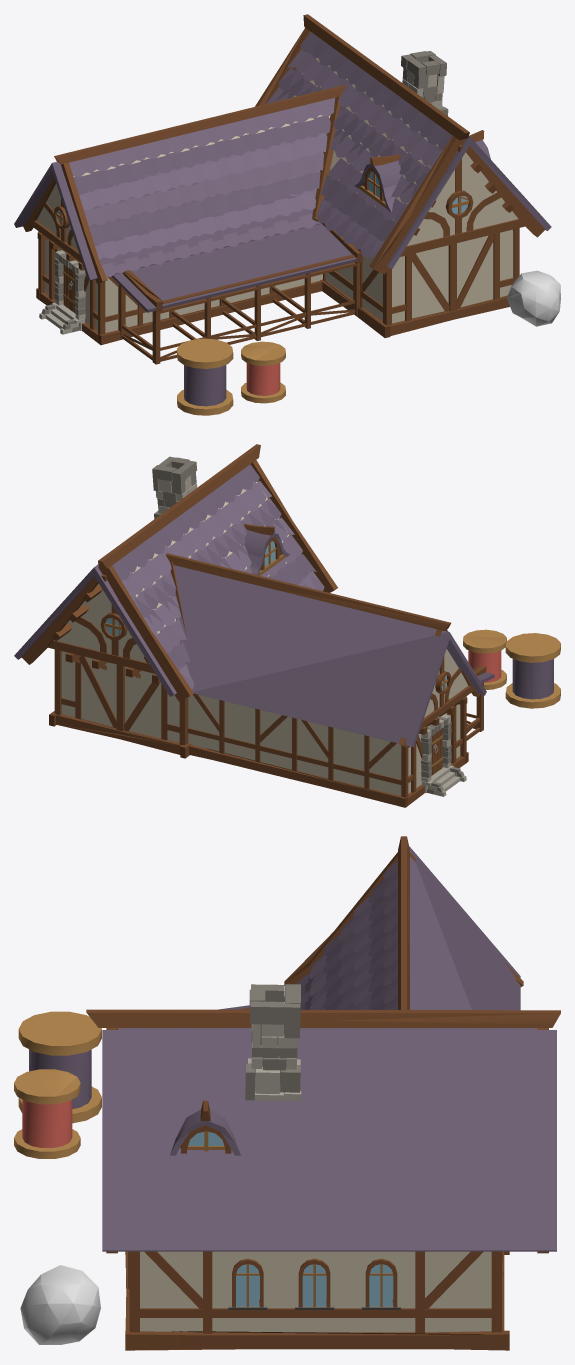
File: weaver.glb
3 renders of one model, top to bottom at view 1: azimuth 30°, elevation 25°; view 2: azimuth 150°, elevation 25°; view 3: azimuth 270°, elevation 25°, orthographic. The views are drawn at different scales.
Parts seen in each view (by area): view 1: building-weaver, building-weaver-far; view 2: building-weaver, building-weaver-far; view 3: building-weaver, building-weaver-far.
Boxes of the visible parts, x1=… form: building-weaver: x1=14, y1=14, x2=560, y2=415; building-weaver-far: x1=45, y1=27, x2=532, y2=390; building-weaver: x1=19, y1=444, x2=560, y2=807; building-weaver-far: x1=14, y1=459, x2=531, y2=807; building-weaver: x1=14, y1=836, x2=560, y2=1350; building-weaver-far: x1=27, y1=837, x2=560, y2=1350.
Size of the model in its own units: 5.16 by 2.74 by 4.2.
